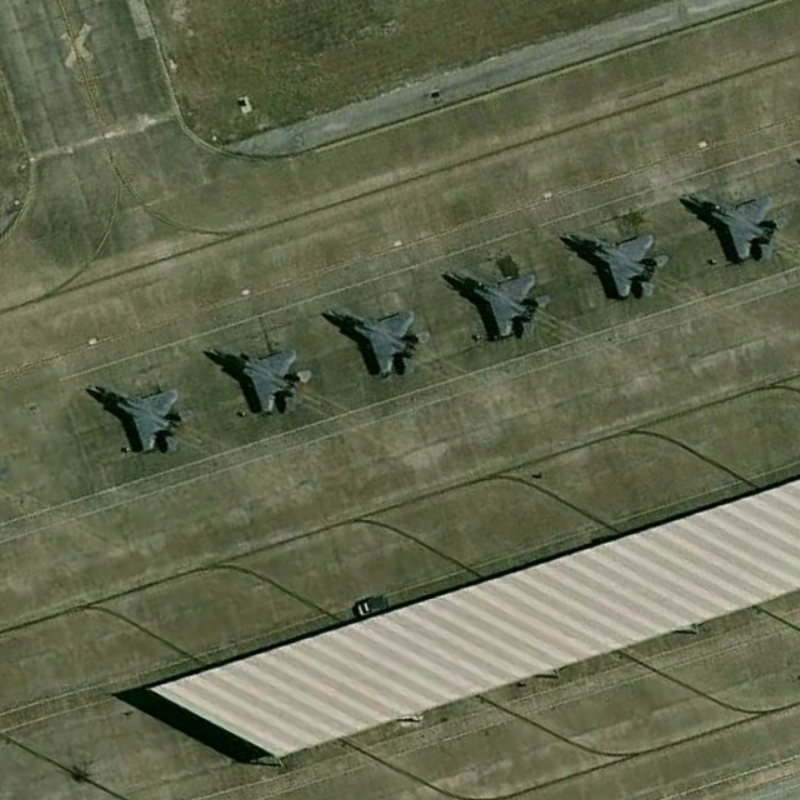A13: (82, 366, 196, 461), (556, 219, 675, 308), (437, 265, 560, 345), (207, 333, 315, 422), (320, 302, 436, 384), (679, 183, 790, 267)
